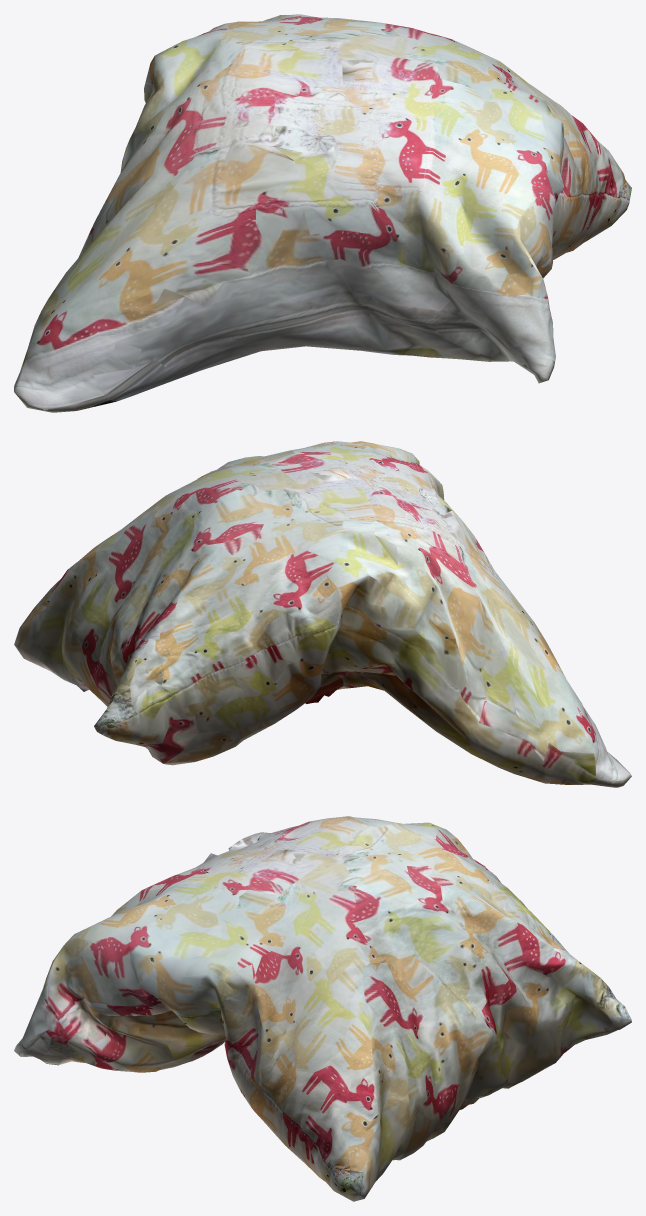
Rendered from bambipolster.glb.
3 renders of one model, top to bottom at view 1: azimuth 30°, elevation 25°; view 2: azimuth 150°, elevation 25°; view 3: azimuth 270°, elevation 25°, orthographic. The views are drawn at different scales.
Visible parts, largest first — view 1: 07_polster.005; view 2: 07_polster.005; view 3: 07_polster.005.
Boxes of the visible parts, x1,y1,x2,y2 form: 07_polster.005: (14,14,631,412); 07_polster.005: (14,441,631,787); 07_polster.005: (14,816,631,1201).
Bounding box in the file's own units: 1.42 × 0.5719 × 1.34.
3 materials, 3 textured.
